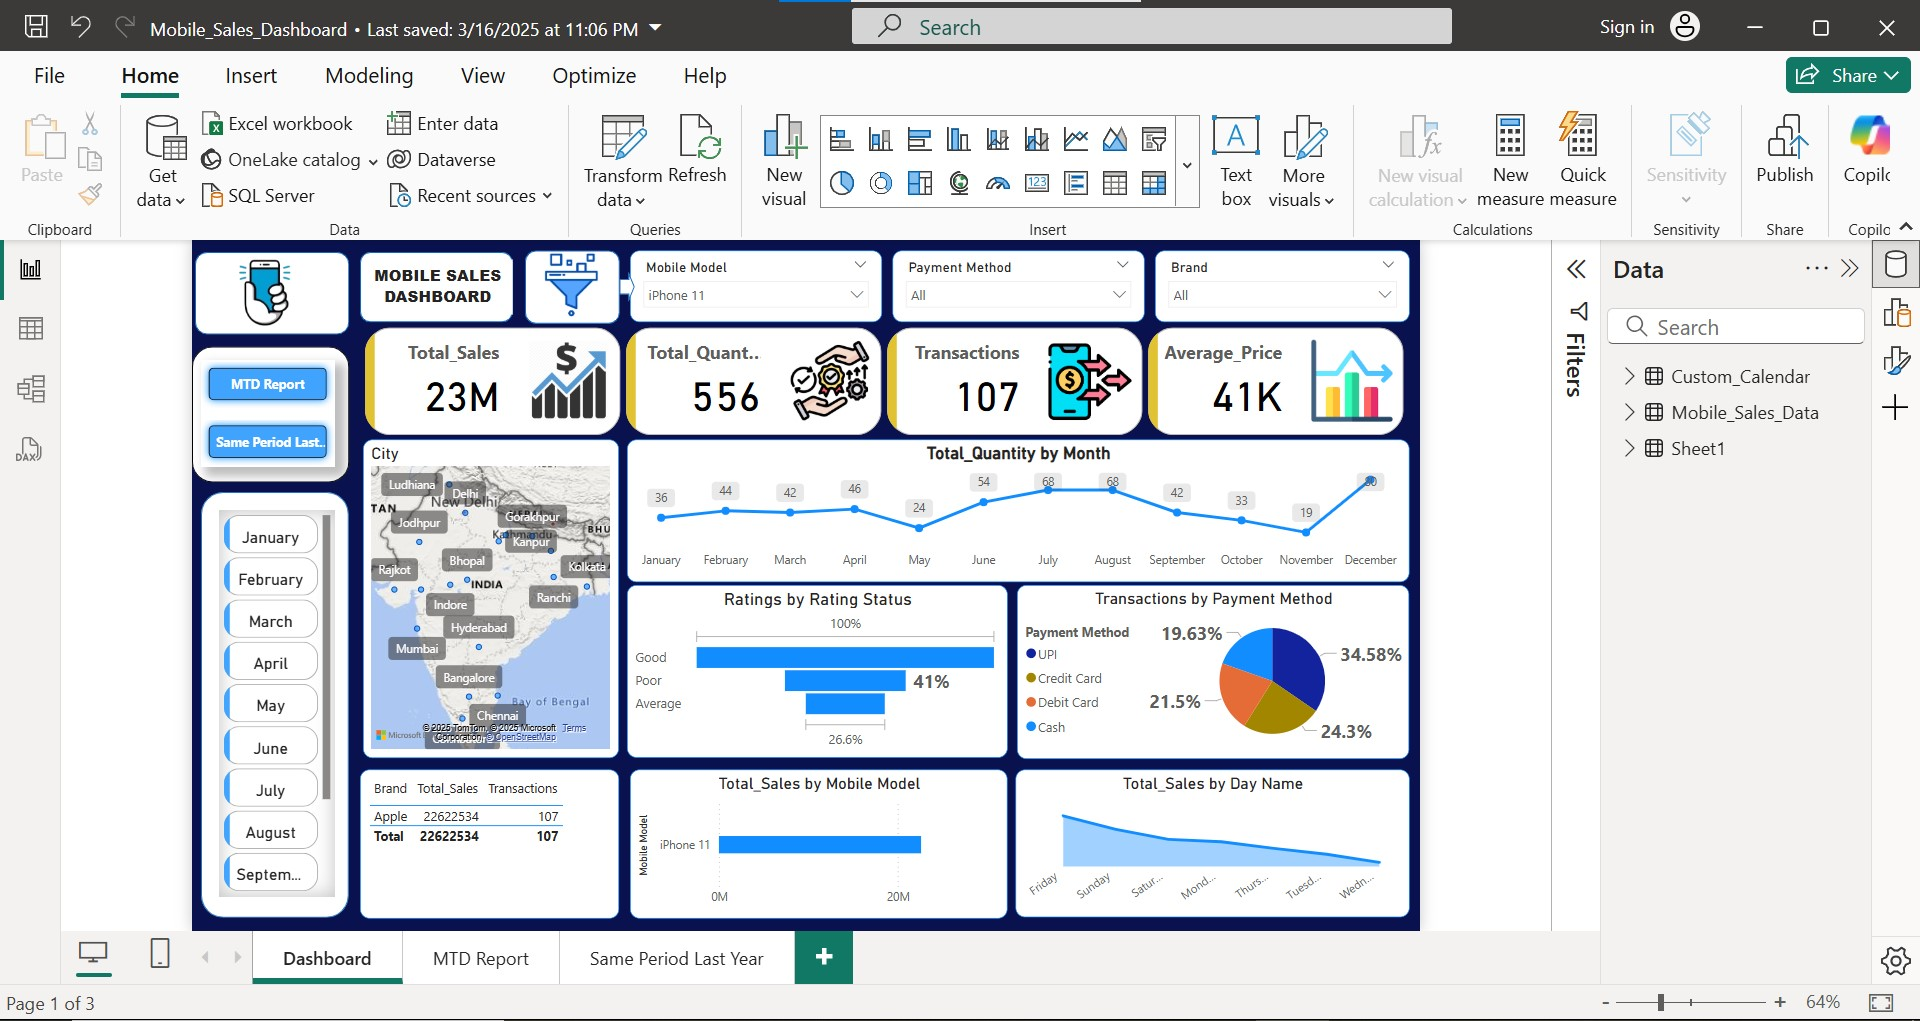

The page's visual inventory and layout, read from the dashboard file:
{"tool":"powerbi","page":{"name":"Dashboard","canvas":[1280,720],"ordinal":0},"visuals":[{"type":"shape","box":[3.2,12.7,160.7,85.9],"z":0},{"type":"shape","box":[10.1,263.3,153.9,443.5],"z":1000},{"type":"image","box":[14.3,8,122.5,90.7],"z":2000},{"type":"shape","box":[0,111.3,163.8,141.6],"z":3000},{"type":"advancedSlicerVisual","fields":{"Values":["Custom_Calendar.Date.Variation.Date Hierarchy.Month"]},"box":[28.4,281.5,121.5,403],"z":4000},{"type":"cardVisual","fields":{"Data":["Mobile_Sales_Data.Total_Sales","Mobile_Sales_Data.Total_Quantity","Mobile_Sales_Data.Transactions","Mobile_Sales_Data.Average_Price"]},"box":[175,85.9,1094.3,122.5],"z":5000},{"type":"slicer","fields":{"Values":["Mobile_Sales_Data.Mobile Model"]},"box":[456.5,11.1,262.5,74.8],"z":6000},{"type":"slicer","fields":{"Values":["Mobile_Sales_Data.Payment Method"]},"box":[730.1,11.1,262.5,74.8],"z":7000},{"type":"slicer","fields":{"Values":["Mobile_Sales_Data.Brand"]},"box":[1003.7,11.1,265.6,74.8],"z":8000},{"type":"shape","box":[346.8,11.1,98.6,76.3],"z":9000},{"type":"image","box":[211.6,8,369,77.9],"z":10000},{"type":"shape","box":[445.4,33.4,15.9,31.8],"z":11000},{"type":"shape","box":[175,12.7,159.1,73.2],"z":12000},{"type":"textbox","box":[178.1,20.7,155.9,57.3],"z":13000},{"type":"lineChart","fields":{"Y":["Mobile_Sales_Data.Total_Quantity"],"Category":["Custom_Calendar.Date.Variation.Date Hierarchy.Month"]},"box":[453.3,208.3,815,148.3],"z":14000},{"type":"funnel","title":"Ratings by Rating Status","fields":{"Y":["CountNonNull(Mobile_Sales_Data.Customer Ratings)"],"Category":["Mobile_Sales_Data.Rating Status"]},"box":[453.3,360,396.7,180],"z":15000},{"type":"pieChart","fields":{"Category":["Mobile_Sales_Data.Payment Method"],"Y":["Mobile_Sales_Data.Transactions"]},"box":[858.9,359.5,408.8,181.3],"z":16000},{"type":"clusteredBarChart","fields":{"Y":["Mobile_Sales_Data.Total_Sales"],"Category":["Mobile_Sales_Data.Mobile Model"]},"box":[456.7,551.7,393.3,155],"z":17000},{"type":"areaChart","fields":{"Y":["Mobile_Sales_Data.Total_Sales"],"Category":["Custom_Calendar.Day Name"]},"box":[857.3,551.9,410.4,154.3],"z":18000},{"type":"tableEx","fields":{"Values":["Mobile_Sales_Data.Brand","Mobile_Sales_Data.Total_Sales","Mobile_Sales_Data.Transactions"]},"box":[175,551.7,270,155],"z":19000},{"type":"pageNavigator","box":[10.1,125.6,139.7,111.4],"z":20000},{"type":"map","fields":{"Category":["Mobile_Sales_Data.City"]},"box":[178.3,208.3,266.7,331.7],"z":21000}]}

Visuals, with their boxes on the page's 1280x720 design canvas (x1, y1, x2, y2). These are canvas units, not pixel positions in the 1920x1021 screenshot, which may show the page scaled, cropped or inside an application window:
shape: (3, 13, 164, 99)
shape: (10, 263, 164, 707)
image: (14, 8, 137, 99)
shape: (0, 111, 164, 253)
advancedSlicerVisual - Custom_Calendar.Date.Variation.Date Hierarchy.Month: (28, 282, 150, 684)
cardVisual - Mobile_Sales_Data.Total_Sales x Mobile_Sales_Data.Total_Quantity: (175, 86, 1269, 208)
slicer - Mobile_Sales_Data.Mobile Model: (456, 11, 719, 86)
slicer - Mobile_Sales_Data.Payment Method: (730, 11, 993, 86)
slicer - Mobile_Sales_Data.Brand: (1004, 11, 1269, 86)
shape: (347, 11, 445, 87)
image: (212, 8, 581, 86)
shape: (445, 33, 461, 65)
shape: (175, 13, 334, 86)
textbox: (178, 21, 334, 78)
lineChart - Mobile_Sales_Data.Total_Quantity x Custom_Calendar.Date.Variation.Date Hierarchy.Month: (453, 208, 1268, 357)
"Ratings by Rating Status" funnel: (453, 360, 850, 540)
pieChart - Mobile_Sales_Data.Payment Method x Mobile_Sales_Data.Transactions: (859, 360, 1268, 541)
clusteredBarChart - Mobile_Sales_Data.Total_Sales x Mobile_Sales_Data.Mobile Model: (457, 552, 850, 707)
areaChart - Mobile_Sales_Data.Total_Sales x Custom_Calendar.Day Name: (857, 552, 1268, 706)
tableEx - Mobile_Sales_Data.Brand x Mobile_Sales_Data.Total_Sales: (175, 552, 445, 707)
pageNavigator: (10, 126, 150, 237)
map - Mobile_Sales_Data.City: (178, 208, 445, 540)
